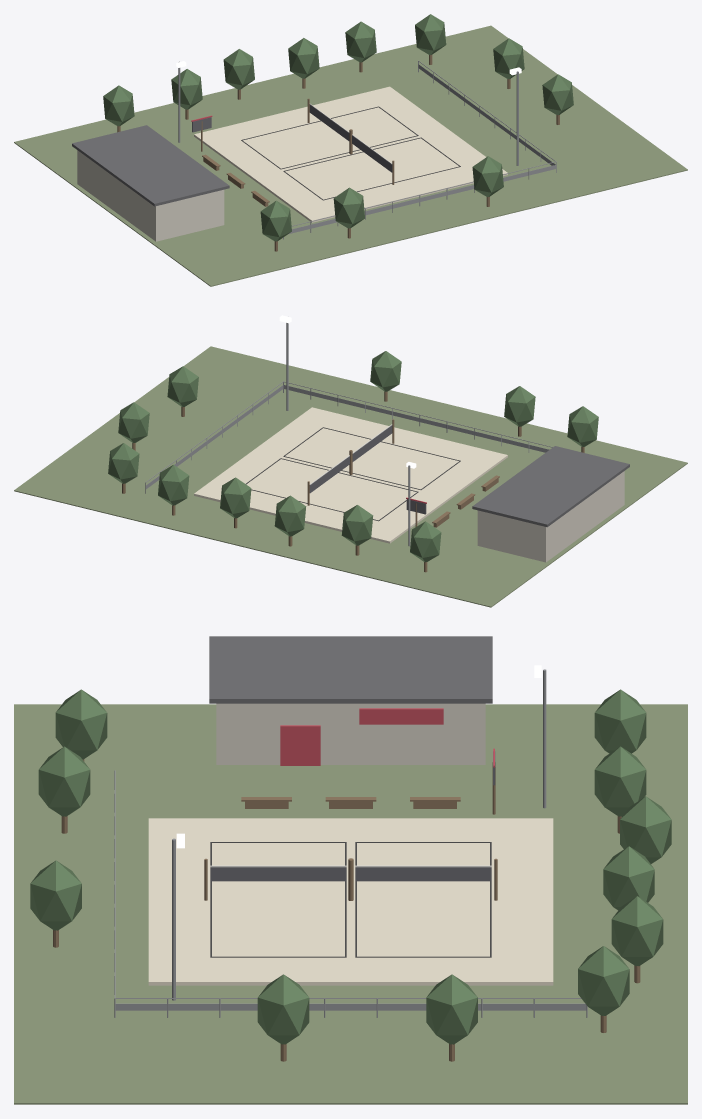
Rendered from courts.glb.
3 views of the same model, one above another, from view 1: azimuth 30°, elevation 25°; view 2: azimuth 150°, elevation 25°; view 3: azimuth 270°, elevation 25° (orthographic). The views are drawn at different scales.
Visible parts, largest first — view 1: Ground, SandPad, Gym_Roof, Gym_Body, Fence_Front_mesh, Tree3_Crown, Tree9_Crown, Tree1_Crown, Tree4_Crown, Tree10_Crown, Tree2_Crown, Tree5_Crown (+5 smaller); view 2: Ground, SandPad, Gym_Roof, Gym_Body, Fence_Front_mesh, Tree4_Crown, Tree6_Crown, Tree8_Crown, Tree9_Crown, Tree10_Crown, Tree0_Crown, Tree2_Crown (+5 smaller); view 3: Ground, SandPad, Gym_Roof, Gym_Body, Fence_Right_mesh, Tree8_Crown, Tree7_Crown, Tree3_Crown, Tree6_Crown, Tree10_Crown, Tree4_Crown, Tree9_Crown (+8 smaller).
Boxes of the visible parts, <box> form: Ground: <box>14,25,687,286</box>; SandPad: <box>194,86,507,222</box>; Gym_Roof: <box>72,125,229,206</box>; Gym_Body: <box>77,150,224,241</box>; Fence_Front_mesh: <box>288,165,555,234</box>; Tree3_Crown: <box>345,21,376,62</box>; Tree9_Crown: <box>260,200,291,241</box>; Tree1_Crown: <box>223,49,254,89</box>; Tree4_Crown: <box>415,14,446,54</box>; Tree10_Crown: <box>472,156,503,196</box>; Tree2_Crown: <box>288,38,319,78</box>; Tree5_Crown: <box>103,85,134,126</box>; Ground: <box>14,346,687,607</box>; SandPad: <box>194,407,507,543</box>; Gym_Roof: <box>472,446,629,527</box>; Gym_Body: <box>477,471,624,562</box>; Fence_Front_mesh: <box>283,385,549,452</box>; Tree4_Crown: <box>108,443,139,483</box>; Tree6_Crown: <box>118,402,149,443</box>; Tree8_Crown: <box>504,386,535,426</box>; Tree9_Crown: <box>567,406,598,446</box>; Tree10_Crown: <box>370,351,401,391</box>; Tree0_Crown: <box>341,505,373,545</box>; Tree2_Crown: <box>220,477,251,518</box>; Ground: <box>14,704,687,1104</box>; SandPad: <box>148,818,553,985</box>; Gym_Roof: <box>209,636,492,703</box>; Gym_Body: <box>216,703,485,764</box>; Fence_Right_mesh: <box>115,1003,586,1010</box>; Tree8_Crown: <box>38,746,90,816</box>; Tree7_Crown: <box>257,974,309,1044</box>; Tree3_Crown: <box>611,896,663,966</box>; Tree6_Crown: <box>426,974,477,1044</box>; Tree10_Crown: <box>30,860,81,930</box>; Tree4_Crown: <box>578,946,629,1015</box>; Tree9_Crown: <box>55,689,107,759</box>.
Bounding box in the file's own units: 56 × 10.72 × 40.
